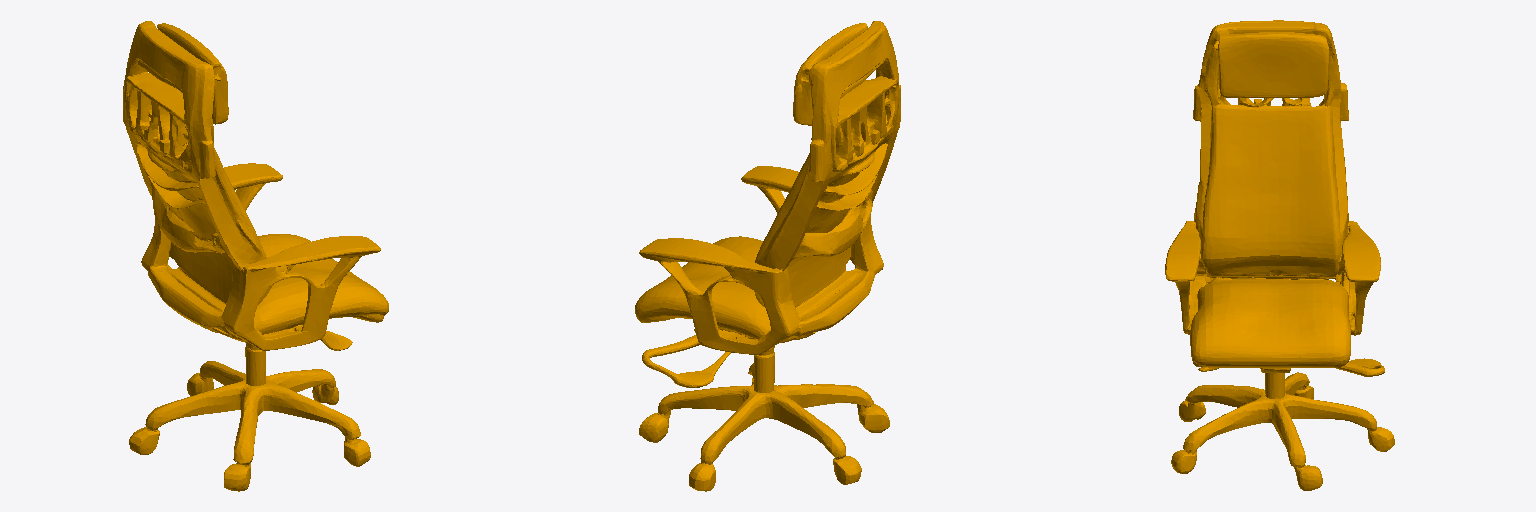
URDF robot description (computer_chair_47):
<?xml version="1.0" ?>
<robot name="computer_chair_47">
   <link name="computer_chair_47">
      <visual>
         <origin xyz="0 0 0" rpy="1.5708 0.0 0.0"/>
         <geometry>
            <mesh filename="mesh/computer_chair_47.obj" scale="1.0 1.0 1.0"/>
         </geometry>
      </visual>
      <collision>
         <origin xyz="0 0 0" rpy="1.5708 0.0 0.0"/>
         <geometry>
            <mesh filename="mesh/computer_chair_47_collision.obj" scale="1.0 1.0 1.0"/>
         </geometry>
         <gazebo>
            <mu1>0.80</mu1>
            <mu2>0.60</mu2>
         </gazebo>
      </collision>
      <inertial>
         <mass value="15.0000"/>
         <origin xyz="0 0 0"/>
         <inertia ixx="1.0" ixy="0.0" ixz="0.0" iyy="1.0" iyz="0.0" izz="1.0"/>
      </inertial>
      <extra_info>
         <scale>1.300000</scale>
         <version>v0.1.5</version>
         <category>computer_chair</category>
         <description>ergonomic office chair with adjustable headrest, armrests, and rolling base</description>
         <min_height>1.2</min_height>
         <max_height>1.4</max_height>
         <real_height>1.3</real_height>
         <min_mass>12.0</min_mass>
         <max_mass>18.0</max_mass>
         <generate_time>20251021131549</generate_time>
         <gs_model>mesh/computer_chair_47_gs.ply</gs_model>
      </extra_info>
   </link>
   <custom_data>
      <quality>
         <MeshGeoChecker>YES</MeshGeoChecker>
         <ImageSegChecker>YES</ImageSegChecker>
         <ImageAestheticChecker>5.0309871435165405</ImageAestheticChecker>
         <overall>YES</overall>
      </quality>
   </custom_data>
</robot>

--- What the picture shows (computed from the rendered views, not written in the file) ---
3 views of the same robot in one strip: view 1: azimuth 30°, elevation 25°; view 2: azimuth 150°, elevation 25°; view 3: azimuth 270°, elevation 25° (orthographic).
Robot: computer_chair_47 — 1 links, 0 joints (none); root link computer_chair_47; default pose: all joints at 0.
Visible links, largest first — view 1: computer_chair_47; view 2: computer_chair_47; view 3: computer_chair_47.
Boxes of the visible links, bbox=[...] form: computer_chair_47: bbox=[123, 21, 388, 491]; computer_chair_47: bbox=[635, 21, 900, 491]; computer_chair_47: bbox=[1165, 20, 1394, 490].
Bounding box of the posed robot: 0.6812 × 0.7012 × 1.3 m (x, y, z).
1 mesh visuals loaded from 1 distinct referenced files (1 OBJ).
